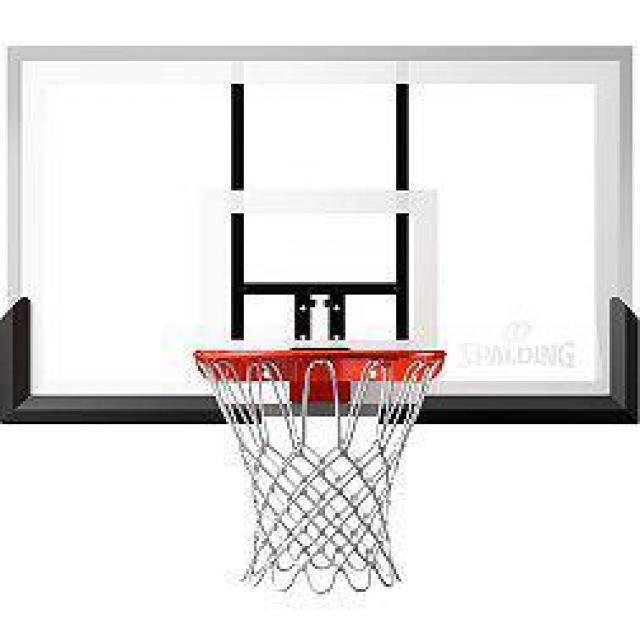hoop: (193, 348, 446, 596)
